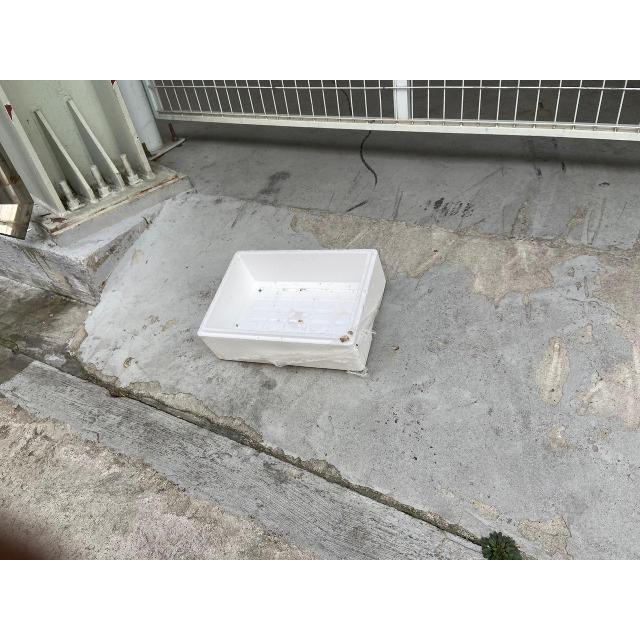Plastico descartable: (197, 249, 387, 376)
